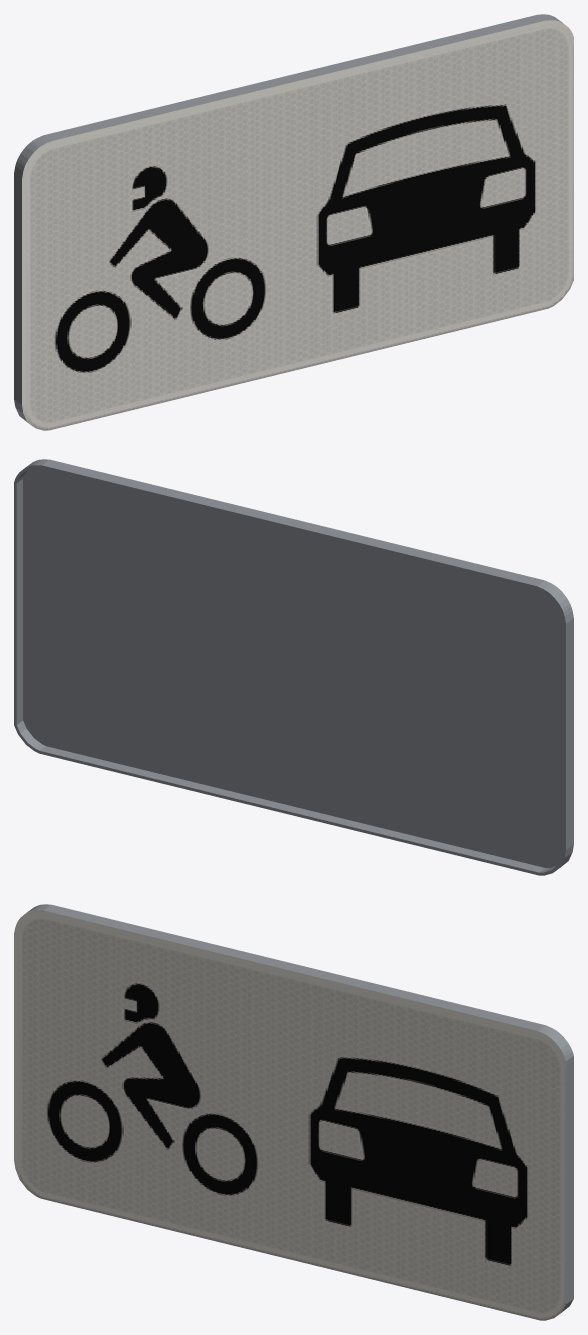
3 renders of one model, top to bottom at view 1: azimuth 30°, elevation 25°; view 2: azimuth 150°, elevation 25°; view 3: azimuth 330°, elevation 25°, orthographic.
Visible parts, largest first — view 1: cat_e72a5113756f46ae; view 2: cat_e72a5113756f46ae; view 3: cat_e72a5113756f46ae.
Boxes of the visible parts, bbox=[...] form: cat_e72a5113756f46ae: bbox=[14, 14, 573, 430]; cat_e72a5113756f46ae: bbox=[14, 459, 573, 875]; cat_e72a5113756f46ae: bbox=[14, 904, 573, 1320].
Bounding box in the file's own units: 0.6 × 0.015 × 0.3.
Materials: 2 (1 with a texture image).
